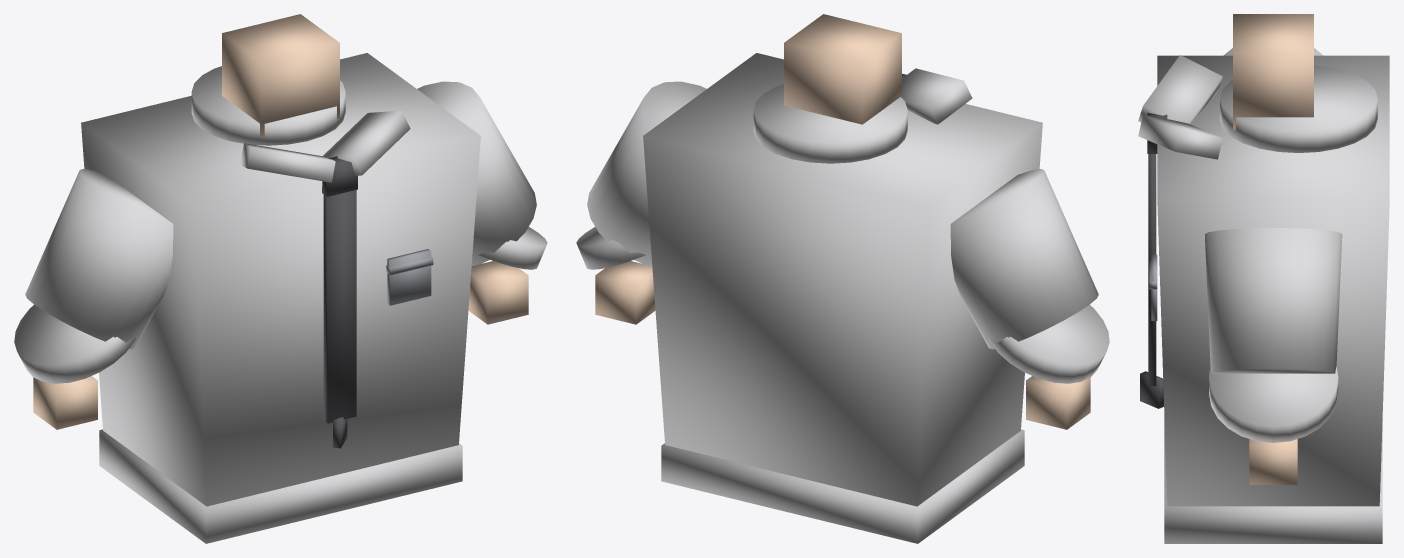
Rendered from row4_08_formal_tie.glb.
3 renders of one model, left to right at view 1: azimuth 30°, elevation 25°; view 2: azimuth 150°, elevation 25°; view 3: azimuth 270°, elevation 25°, orthographic. The views are drawn at different scales.
Parts seen in each view (by area): view 1: Torso_08_formal_tie, Sleeve_R_08_formal_tie, Hem_08_formal_tie, Neck_08_formal_tie, Sleeve_L_08_formal_tie, Tie_Body_08_formal_tie, Cuff_R_08_formal_tie, Collar_Back_08_formal_tie, Wrist_L_08_formal_tie, Collar_L_08_formal_tie, Wrist_R_08_formal_tie, Collar_R_08_formal_tie (+3 smaller); view 2: Torso_08_formal_tie, Sleeve_R_08_formal_tie, Hem_08_formal_tie, Neck_08_formal_tie, Sleeve_L_08_formal_tie, Collar_Back_08_formal_tie, Cuff_R_08_formal_tie, Wrist_L_08_formal_tie, Wrist_R_08_formal_tie, Collar_R_08_formal_tie, Cuff_L_08_formal_tie; view 3: Torso_08_formal_tie, Sleeve_L_08_formal_tie, Hem_08_formal_tie, Neck_08_formal_tie, Collar_Back_08_formal_tie, Cuff_L_08_formal_tie, Collar_R_08_formal_tie, Collar_L_08_formal_tie, Wrist_L_08_formal_tie, Tie_Body_08_formal_tie, Tie_Tip_08_formal_tie, Pocket_08_formal_tie.
Boxes of the visible parts, left/top/right/bottom form: Torso_08_formal_tie: left=81, top=53, right=480, bottom=506; Sleeve_R_08_formal_tie: left=25, top=169, right=173, bottom=349; Hem_08_formal_tie: left=99, top=429, right=462, bottom=543; Neck_08_formal_tie: left=222, top=14, right=339, bottom=136; Sleeve_L_08_formal_tie: left=417, top=81, right=536, bottom=265; Tie_Body_08_formal_tie: left=323, top=190, right=356, bottom=423; Cuff_R_08_formal_tie: left=14, top=304, right=135, bottom=383; Collar_Back_08_formal_tie: left=191, top=66, right=345, bottom=145; Wrist_L_08_formal_tie: left=468, top=261, right=528, bottom=324; Collar_L_08_formal_tie: left=323, top=110, right=410, bottom=175; Wrist_R_08_formal_tie: left=33, top=376, right=97, bottom=429; Collar_R_08_formal_tie: left=240, top=143, right=335, bottom=182; Torso_08_formal_tie: left=643, top=53, right=1042, bottom=506; Sleeve_R_08_formal_tie: left=950, top=169, right=1098, bottom=349; Hem_08_formal_tie: left=661, top=429, right=1024, bottom=543; Neck_08_formal_tie: left=784, top=14, right=901, bottom=124; Sleeve_L_08_formal_tie: left=587, top=81, right=706, bottom=265; Collar_Back_08_formal_tie: left=753, top=84, right=907, bottom=163; Cuff_R_08_formal_tie: left=988, top=304, right=1109, bottom=383; Wrist_L_08_formal_tie: left=595, top=261, right=655, bottom=324; Wrist_R_08_formal_tie: left=1026, top=376, right=1090, bottom=429; Collar_R_08_formal_tie: left=902, top=68, right=972, bottom=124; Cuff_L_08_formal_tie: left=576, top=227, right=645, bottom=269; Torso_08_formal_tie: left=1157, top=55, right=1389, bottom=506; Sleeve_L_08_formal_tie: left=1204, top=228, right=1342, bottom=373; Hem_08_formal_tie: left=1164, top=418, right=1382, bottom=543; Neck_08_formal_tie: left=1233, top=14, right=1313, bottom=130; Collar_Back_08_formal_tie: left=1220, top=65, right=1377, bottom=152; Cuff_L_08_formal_tie: left=1209, top=366, right=1338, bottom=442; Collar_R_08_formal_tie: left=1138, top=55, right=1222, bottom=123; Collar_L_08_formal_tie: left=1138, top=114, right=1222, bottom=159; Wrist_L_08_formal_tie: left=1249, top=439, right=1297, bottom=484; Tie_Body_08_formal_tie: left=1148, top=154, right=1156, bottom=386; Tie_Tip_08_formal_tie: left=1140, top=371, right=1163, bottom=408; Pocket_08_formal_tie: left=1151, top=254, right=1157, bottom=320.
Bounding box in the file's own units: 0.6026 × 0.487 × 0.2489.
